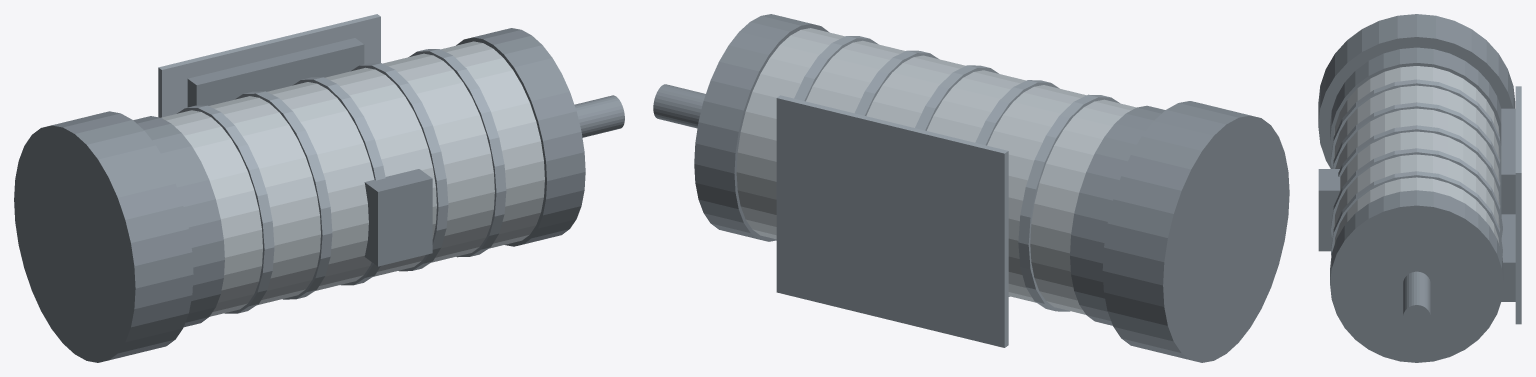
The model's file is motor_freio_iec.glb.
3 views of the same model, side by side, from view 1: azimuth 30°, elevation 25°; view 2: azimuth 150°, elevation 25°; view 3: azimuth 270°, elevation 25° (orthographic). The views are drawn at different scales.
Visible parts, largest first — view 1: motor_freio_iec; view 2: motor_freio_iec; view 3: motor_freio_iec.
Boxes of the visible parts, bbox=[...] form: motor_freio_iec: bbox=[14, 14, 624, 362]; motor_freio_iec: bbox=[653, 14, 1289, 362]; motor_freio_iec: bbox=[1318, 14, 1521, 362].
Bounding box in the file's own units: 2.19 × 0.8496 × 0.8766.
